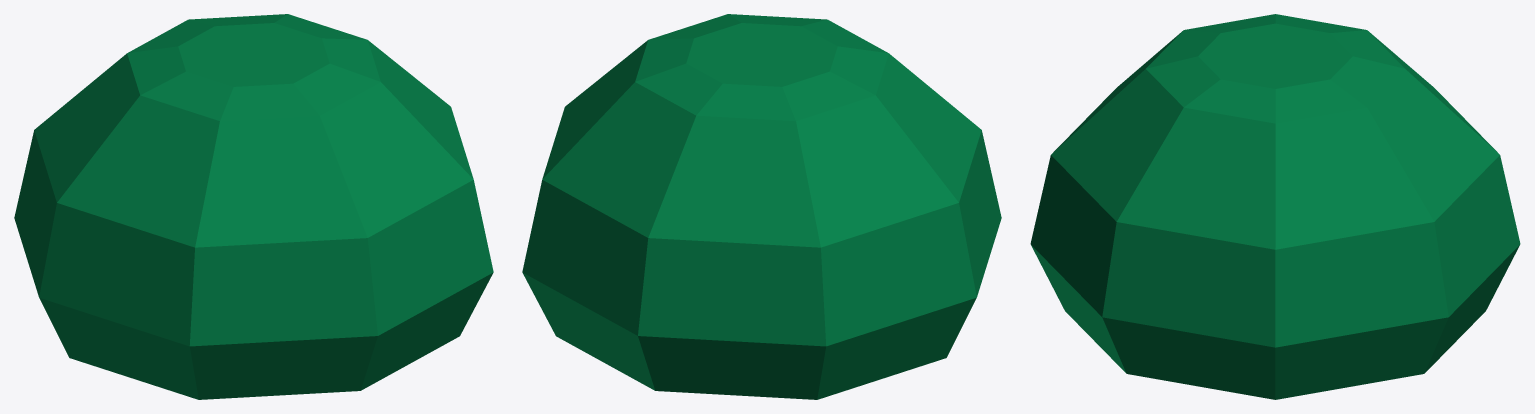
Rendered from M_bush1.fbx.
3 views of the same model, side by side, from view 1: azimuth 30°, elevation 25°; view 2: azimuth 150°, elevation 25°; view 3: azimuth 270°, elevation 25° (orthographic).
Visible parts, largest first — view 1: Sphere; view 2: Sphere; view 3: Sphere.
Part boxes in pixels (x1,y1,x2,y2): Sphere: (14, 14, 493, 399); Sphere: (522, 14, 1001, 399); Sphere: (1030, 14, 1520, 399).
Bounding box in the file's own units: 189 × 108 × 189.
